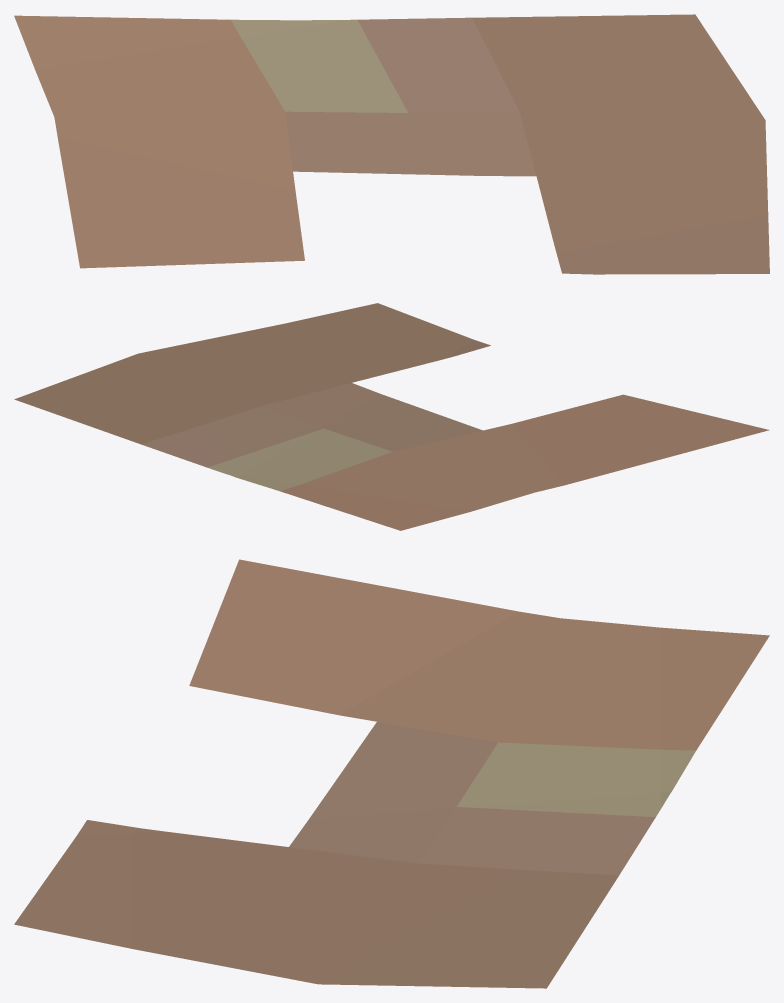
File: farm_-11_2_soil.glb
The picture shows the model from 3 angles, top to bottom: view 1: azimuth 30°, elevation 25°; view 2: azimuth 150°, elevation 25°; view 3: azimuth 270°, elevation 25°; orthographic projection. The views are drawn at different scales.
Parts seen in each view (by area): view 1: geometry_0; view 2: geometry_0; view 3: geometry_0.
Boxes of the visible parts, left/top/right/bottom form: geometry_0: left=14, top=14, right=769, bottom=274; geometry_0: left=14, top=303, right=769, bottom=530; geometry_0: left=14, top=559, right=769, bottom=988.
Bounding box in the file's own units: 139 × 15.14 × 114.
